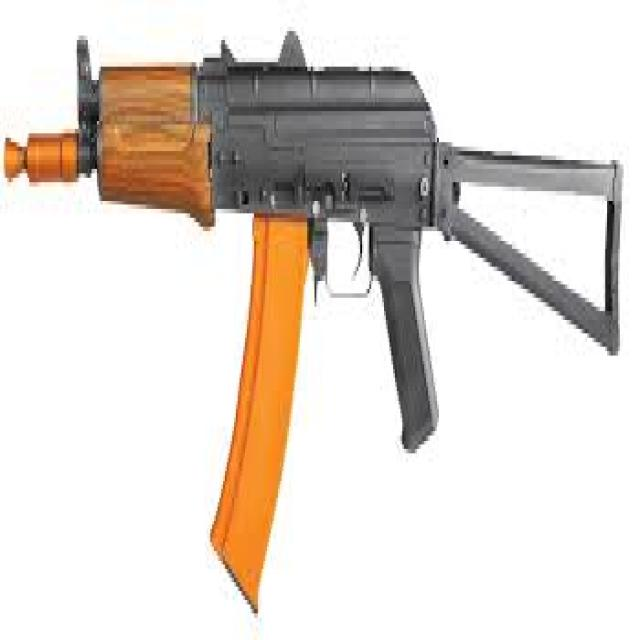rifle: (1, 10, 630, 640)
